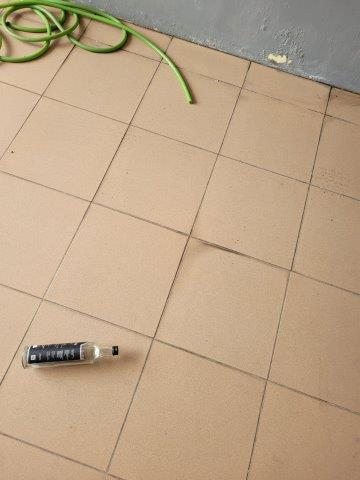botolkaca: (23, 342, 119, 365)
